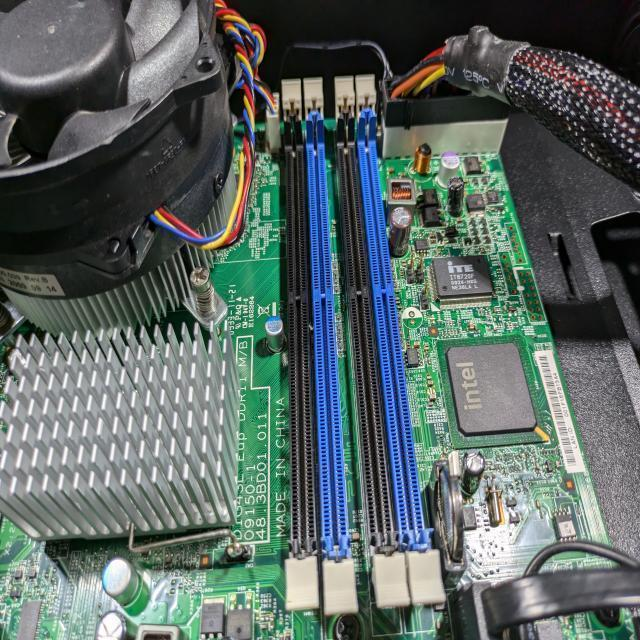CPU_Fan: (0, 0, 244, 336)
Mainboard: (3, 150, 640, 640)
